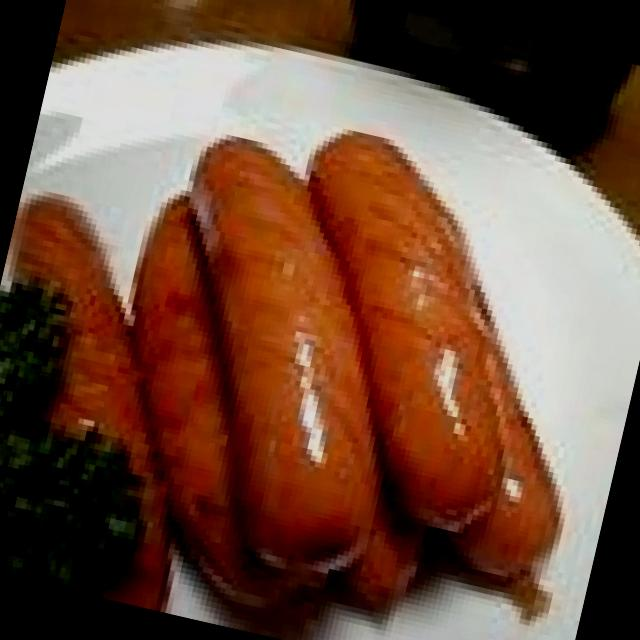Sausage: (77, 96, 620, 640)
